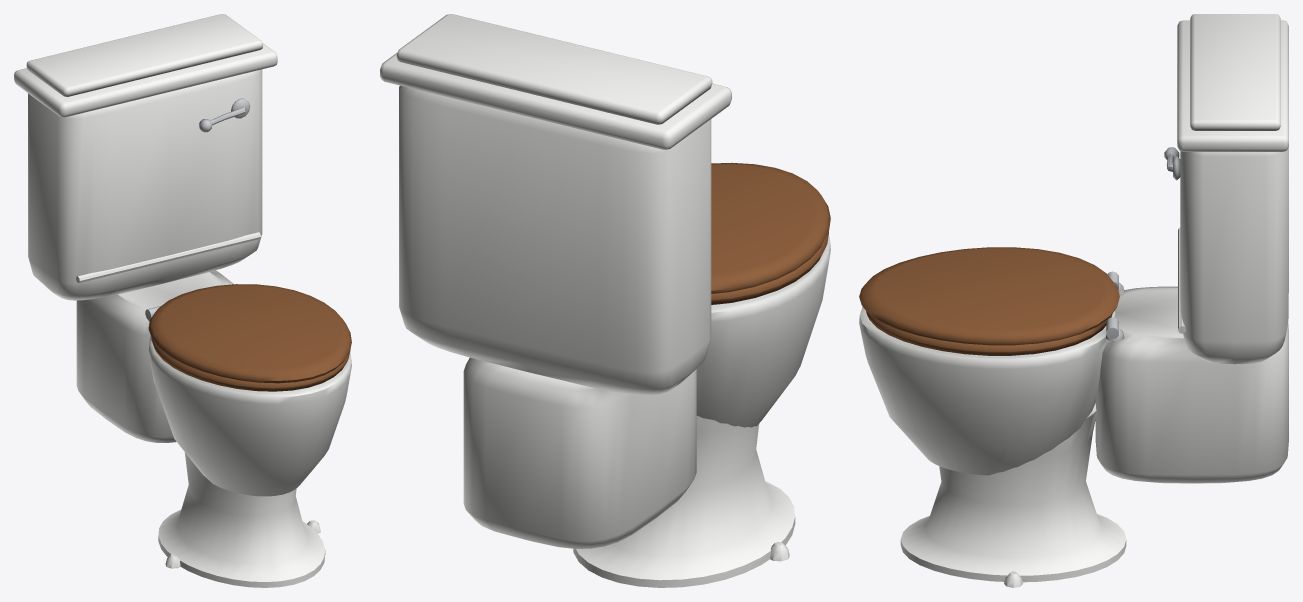
Rendered from toiletClassic.glb.
3 renders of one model, left to right at view 1: azimuth 30°, elevation 25°; view 2: azimuth 150°, elevation 25°; view 3: azimuth 270°, elevation 25°, orthographic. The views are drawn at different scales.
Parts seen in each view (by area): view 1: body, lid; view 2: body, lid; view 3: body, lid.
Boxes of the visible parts, bbox=[...] form: body: bbox=[14, 14, 351, 587]; lid: bbox=[148, 284, 351, 383]; body: bbox=[380, 14, 830, 587]; lid: bbox=[711, 162, 830, 293]; body: bbox=[859, 14, 1288, 587]; lid: bbox=[859, 247, 1119, 345].
Bounding box in the file's own units: 0.47 × 0.875 × 0.712.
